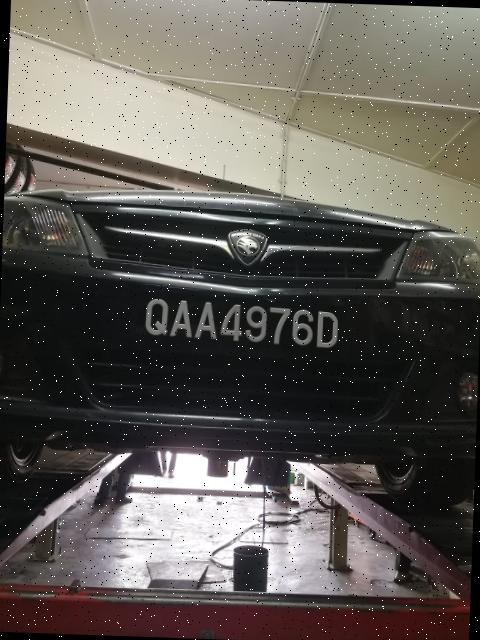License_Plate: (133, 296, 345, 356)
car: (1, 144, 480, 502)
